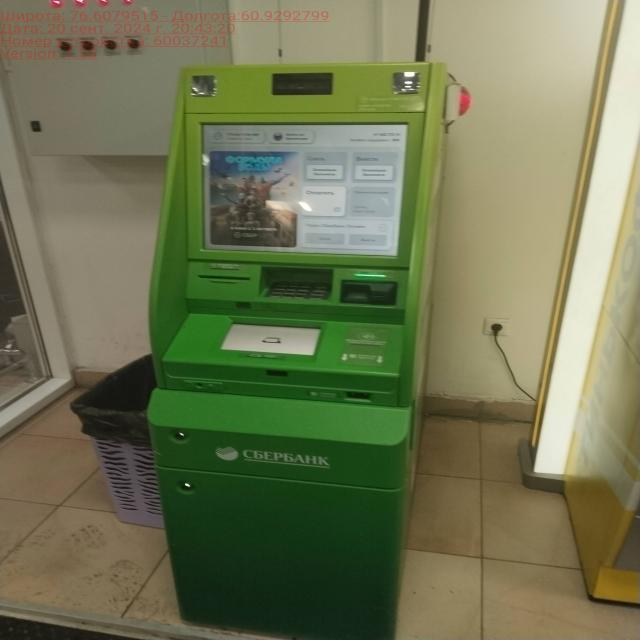bank: (146, 61, 454, 640)
